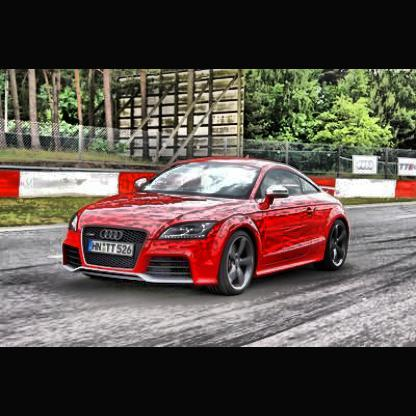Audi TT RS Coupe 2012: (63, 154, 352, 298)
